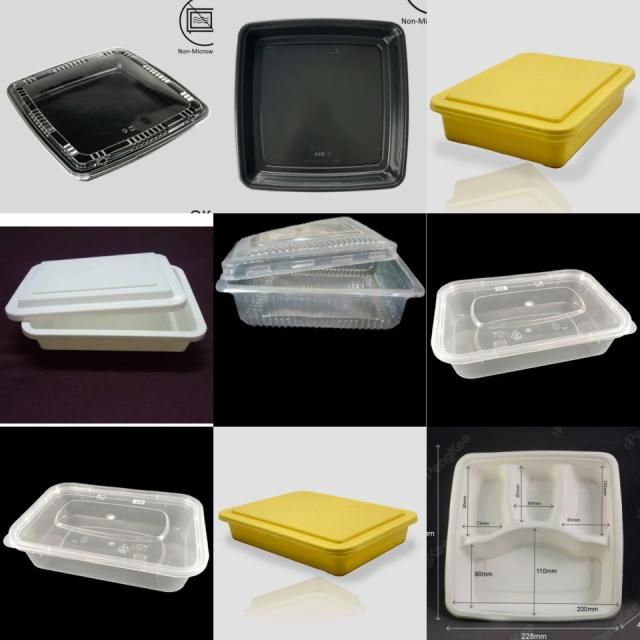Single-Use-Plastic: (445, 451, 622, 621), (235, 19, 409, 191), (8, 48, 209, 180), (430, 52, 635, 168), (216, 216, 425, 329), (431, 269, 636, 379), (4, 482, 209, 592), (5, 252, 206, 351), (219, 491, 418, 576)
